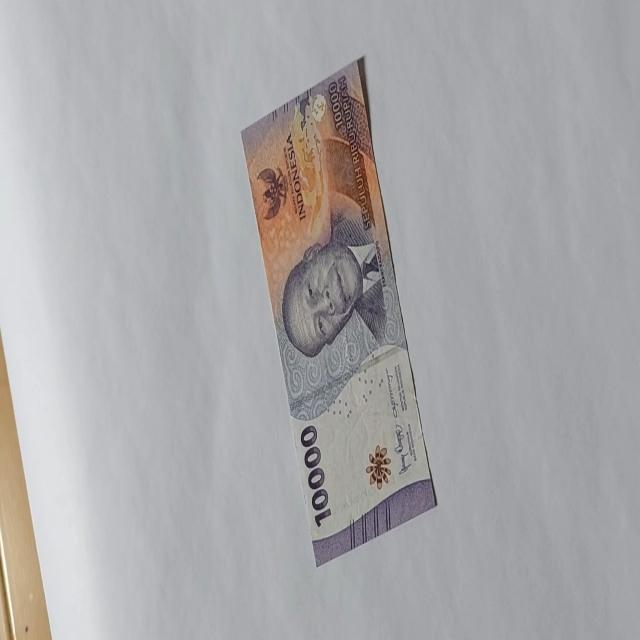sepuluh ribu rupiah: (240, 56, 438, 567)
